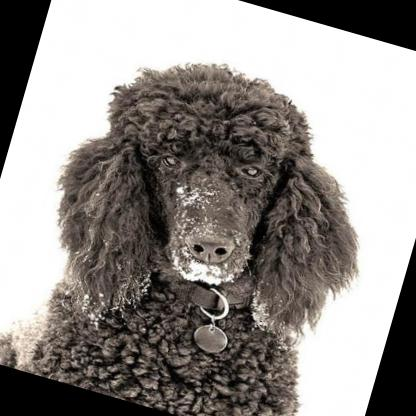standard_poodle: (0, 19, 407, 416)
